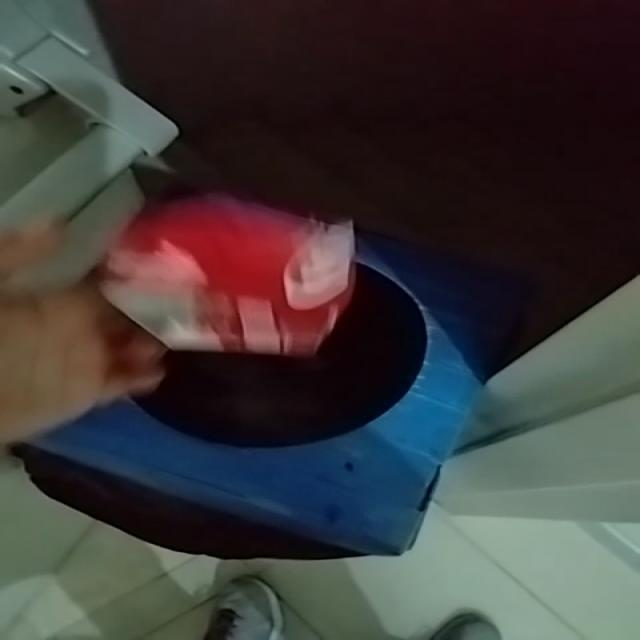Bin: (17, 236, 536, 560)
Metal: (100, 196, 355, 357)
